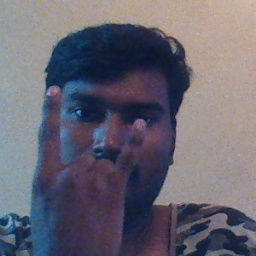V: (21, 82, 150, 256)
